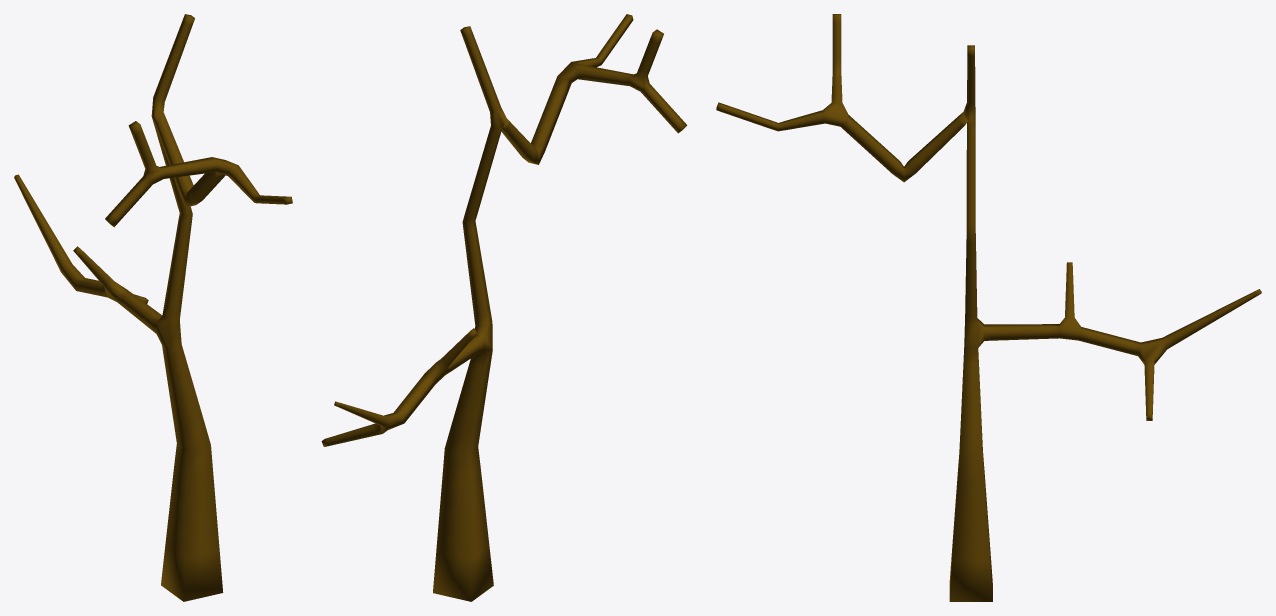
Rendered from DeadBush.fbx.
3 renders of one model, left to right at view 1: azimuth 30°, elevation 25°; view 2: azimuth 150°, elevation 25°; view 3: azimuth 270°, elevation 25°, orthographic. The views are drawn at different scales.
Parts seen in each view (by area): view 1: DeadBush; view 2: DeadBush; view 3: DeadBush.
Part boxes in pixels (x1=…): DeadBush: x1=14, y1=14, x2=292, y2=601; DeadBush: x1=321, y1=14, x2=687, y2=601; DeadBush: x1=716, y1=14, x2=1261, y2=601.
Size of the model in its own units: 0.1959 by 0.4763 by 0.5254.
1 material, 1 textured.
